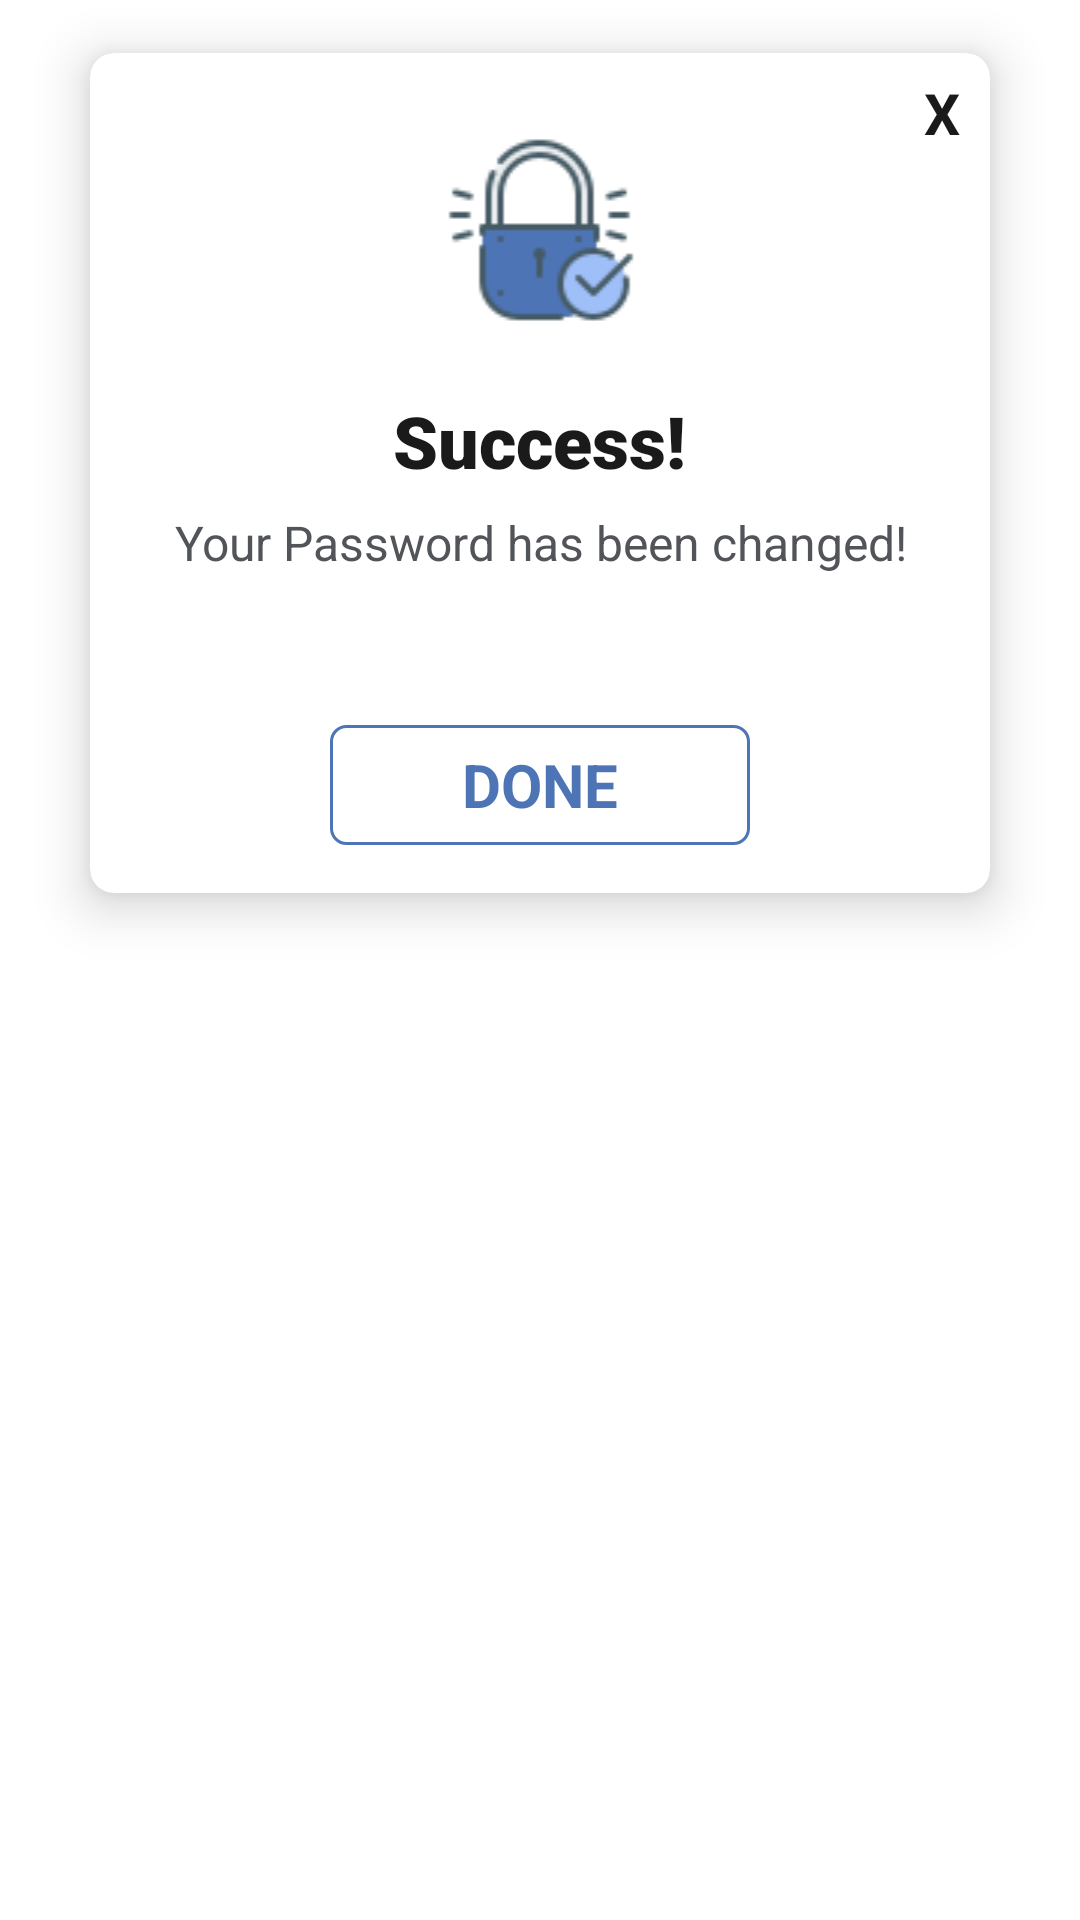

Where icons sit on this 1080 × 1920 app screen, as box(x1, y1, x2, y2):
security: box(449, 139, 633, 321)
